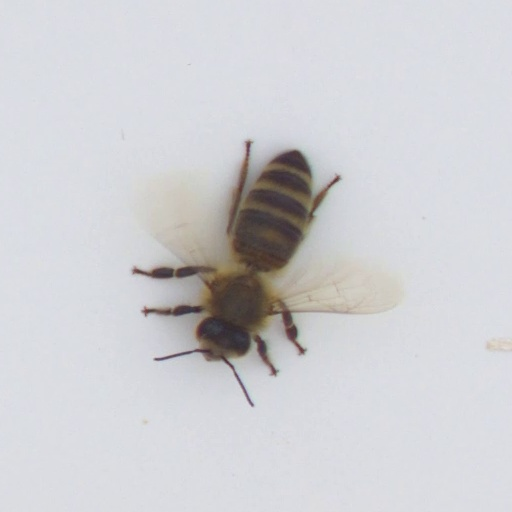Bee: (181, 130, 346, 383)
Thorax: (201, 266, 279, 328)
